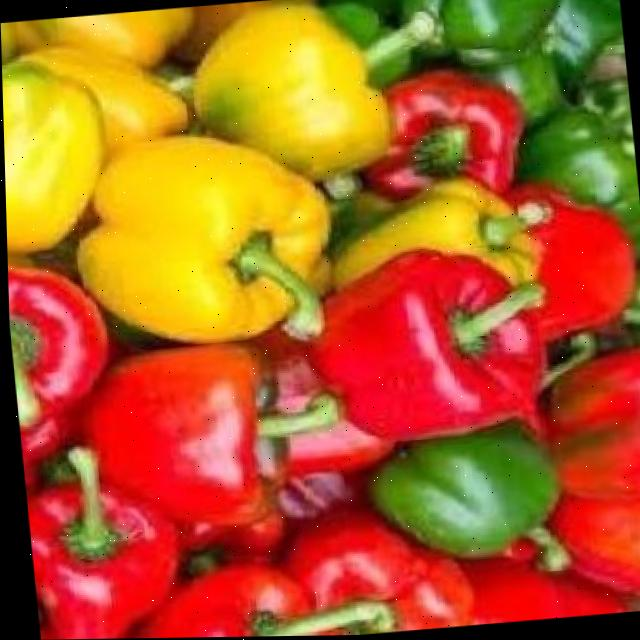Wet: (73, 131, 332, 353), (67, 326, 346, 527), (317, 247, 553, 446), (184, 0, 432, 188), (356, 407, 579, 596), (20, 457, 191, 640), (346, 69, 532, 212), (543, 342, 640, 604), (6, 257, 109, 454)
